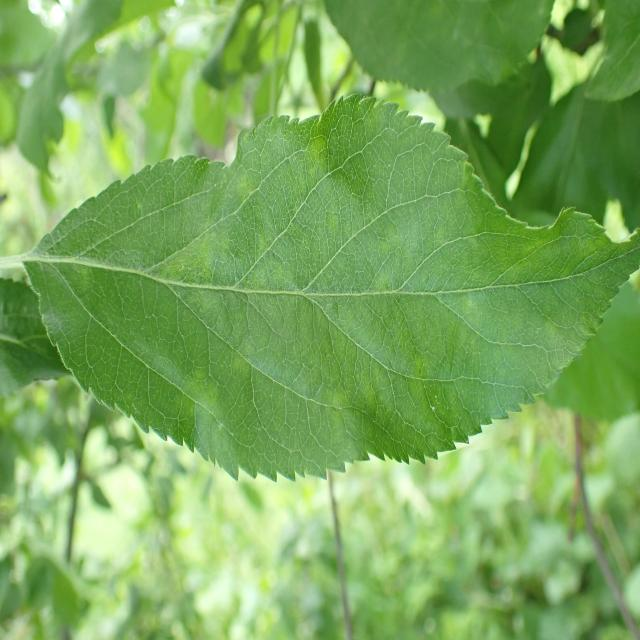scab: (58, 144, 595, 411)
